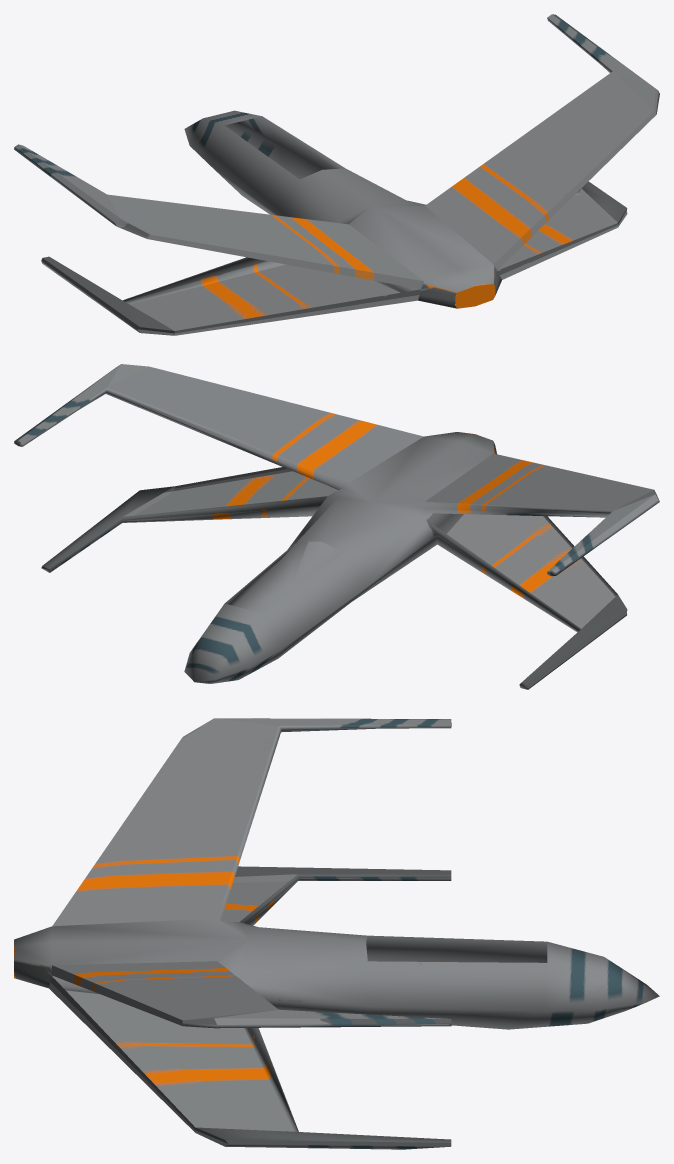
File: starplane.obj
3 views of the same model, one above another, from view 1: azimuth 30°, elevation 25°; view 2: azimuth 150°, elevation 25°; view 3: azimuth 270°, elevation 25° (orthographic). The views are drawn at different scales.
Visible parts, largest first — view 1: plane2_plane2; view 2: plane2_plane2; view 3: plane2_plane2.
Boxes of the visible parts, box(x1,y1,x2,y2) form: plane2_plane2: box(14, 14, 659, 335); plane2_plane2: box(14, 364, 659, 689); plane2_plane2: box(14, 718, 659, 1149).
Bounding box in the file's own units: 3.06 × 0.7137 × 2.74.
1 material, 1 textured.
